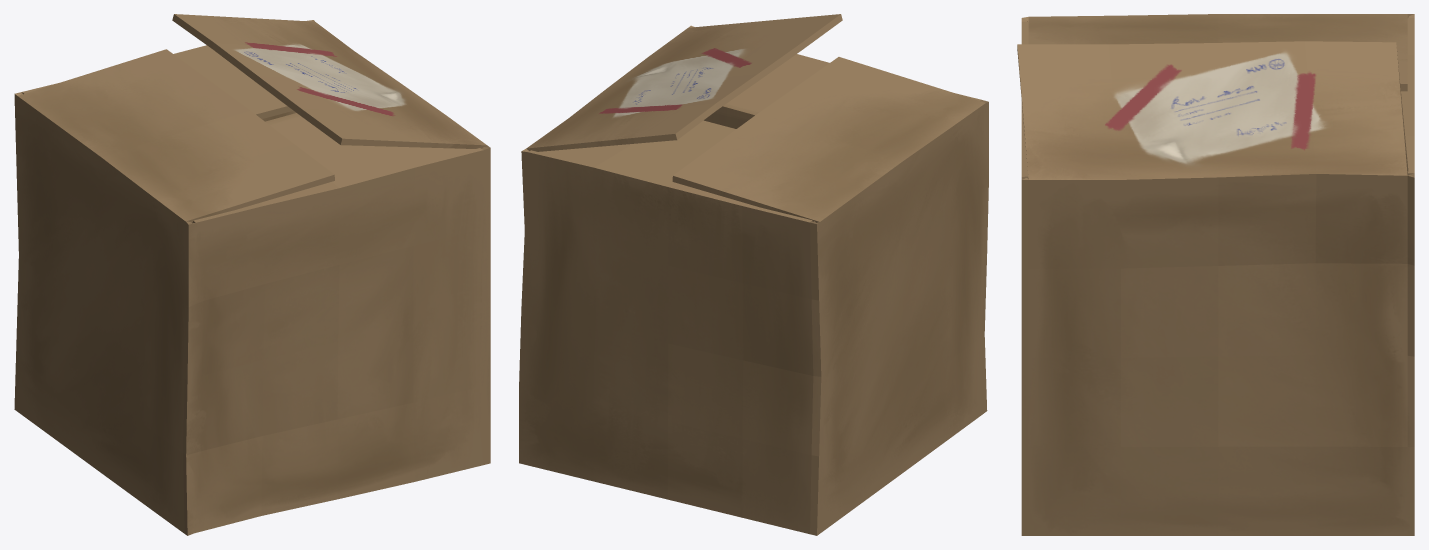
The model's file is BoxCardboard.fbx.
The picture shows the model from 3 angles, left to right: view 1: azimuth 30°, elevation 25°; view 2: azimuth 150°, elevation 25°; view 3: azimuth 270°, elevation 25°; orthographic projection. The views are drawn at different scales.
Parts seen in each view (by area): view 1: Cube; view 2: Cube; view 3: Cube.
Part boxes in pixels (bbox=[...]): Cube: bbox=[14, 14, 490, 535]; Cube: bbox=[519, 14, 988, 535]; Cube: bbox=[1017, 14, 1414, 535].
Bounding box in the file's own units: 200 × 231 × 202.
